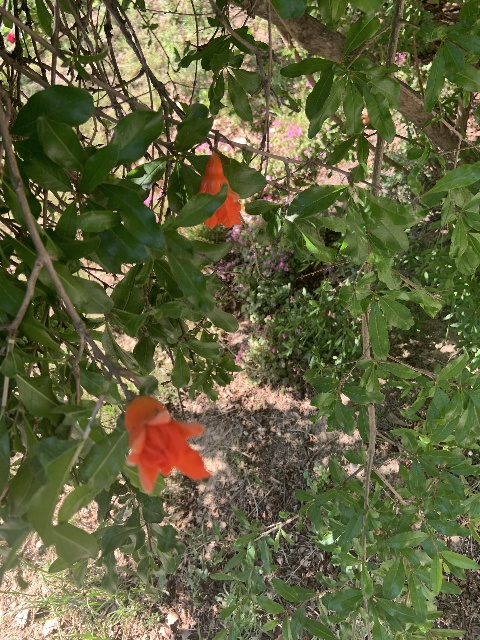flower: (123, 396, 210, 492), (197, 153, 241, 229)
